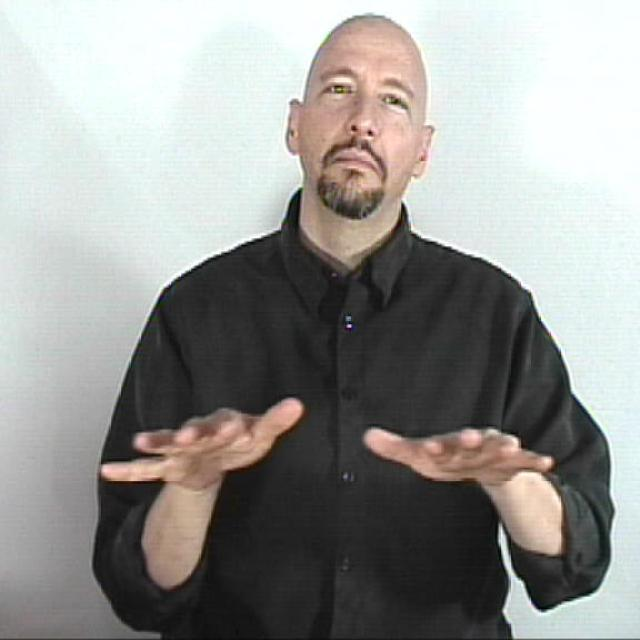calm: (95, 402, 565, 516)
